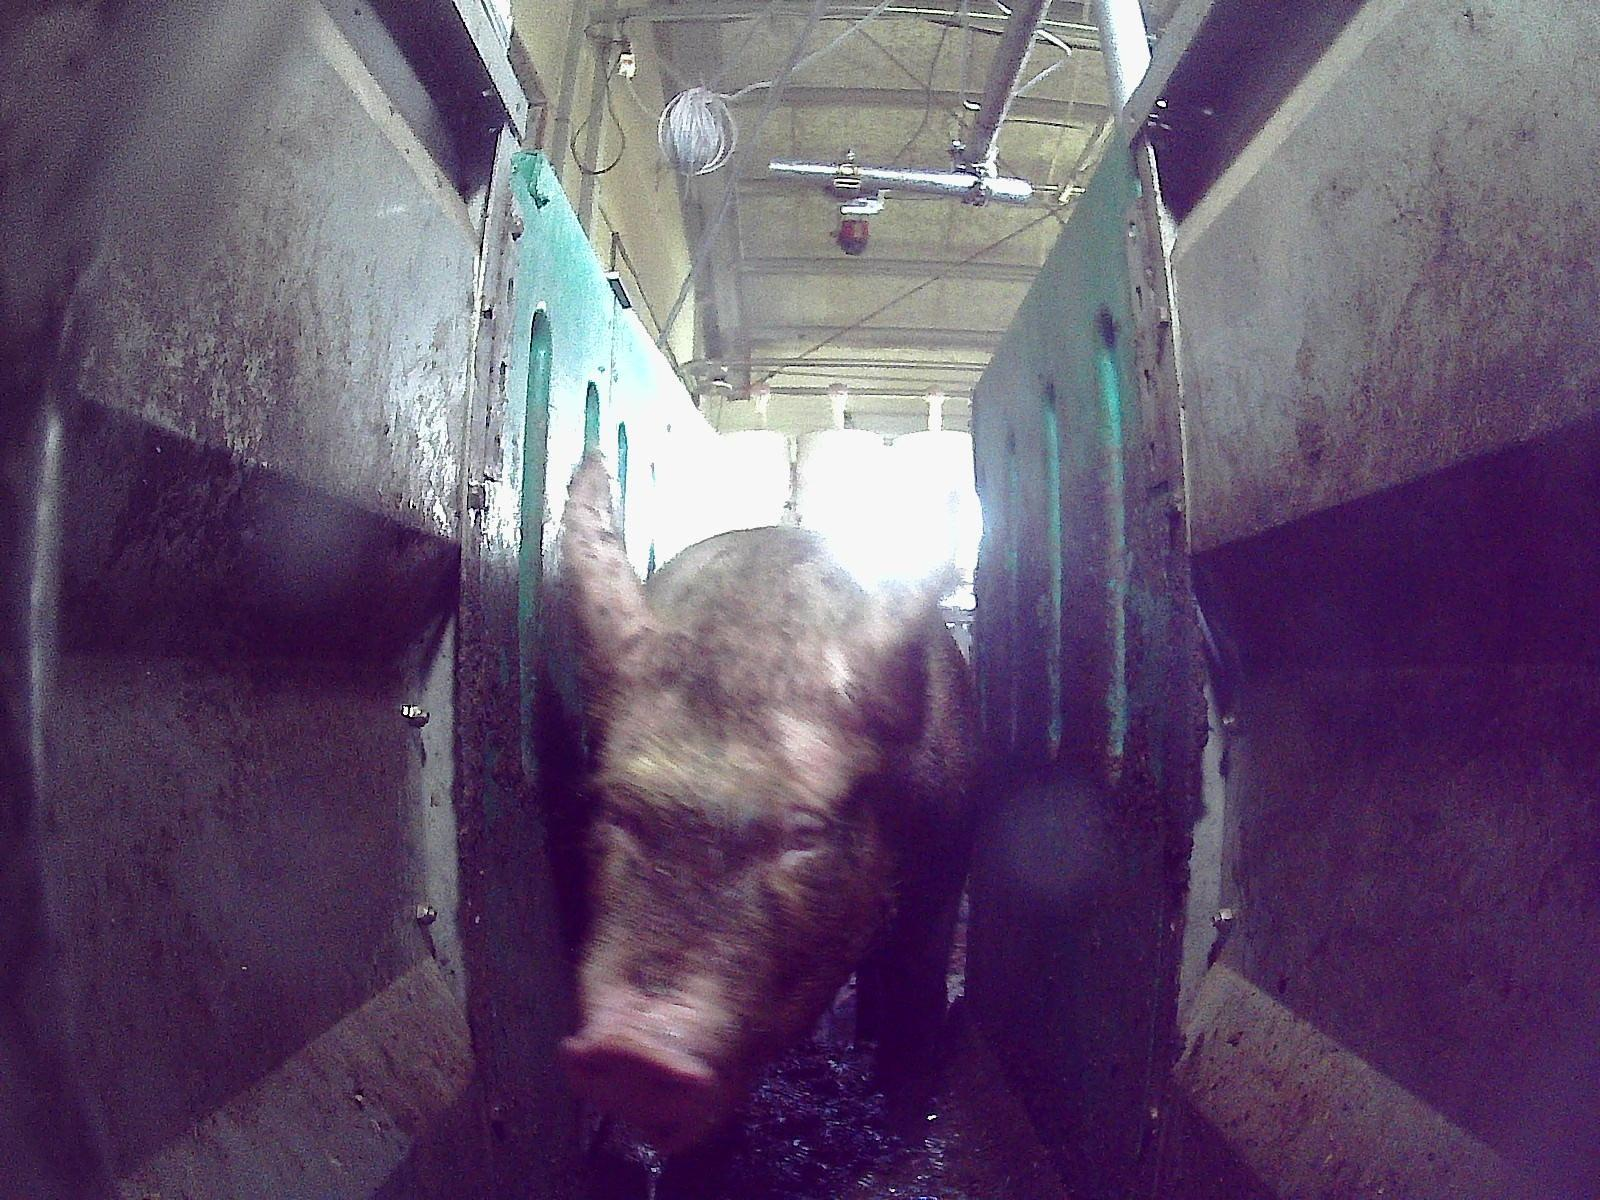Face: (559, 612, 883, 1160)
